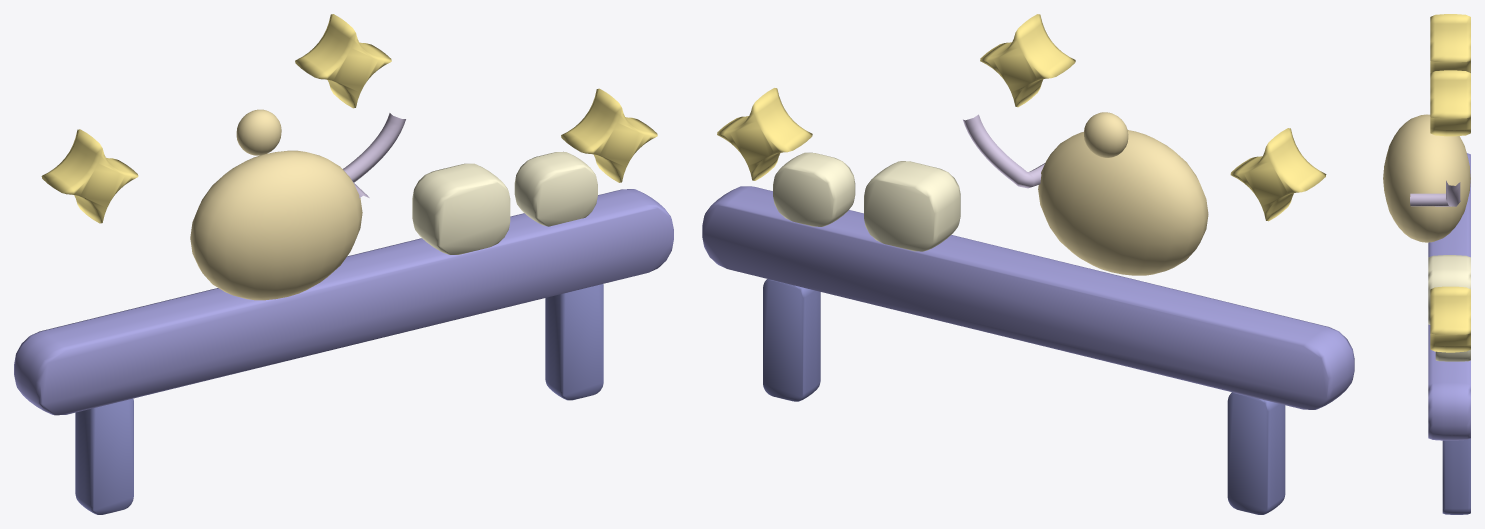
Rendered from decor_3_star.glb.
The picture shows the model from 3 angles, left to right: view 1: azimuth 30°, elevation 25°; view 2: azimuth 150°, elevation 25°; view 3: azimuth 270°, elevation 25°; orthographic projection. The views are drawn at different scales.
Parts seen in each view (by area): view 1: decor_3_star; view 2: decor_3_star; view 3: decor_3_star.
Boxes of the visible parts, bbox=[...] form: decor_3_star: bbox=[14, 14, 673, 514]; decor_3_star: bbox=[702, 14, 1354, 514]; decor_3_star: bbox=[1383, 14, 1470, 514].
Bounding box in the file's own units: 12.5 × 8.1 × 1.86.
